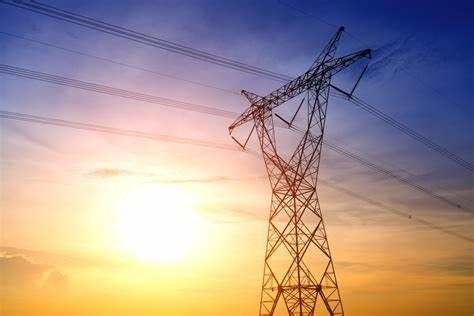power_tower: (208, 24, 380, 316)
